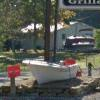Boat: (20, 50, 84, 91)
